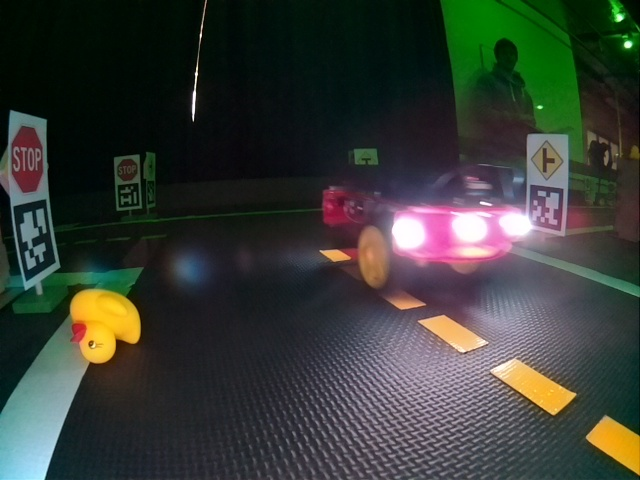Duckie: (70, 289, 138, 361)
Duckiebot: (323, 178, 523, 289)
Intersection sign: (530, 137, 565, 182), (357, 151, 375, 165), (146, 155, 156, 178)
QR code: (12, 199, 59, 280), (527, 183, 565, 232), (116, 182, 139, 207), (146, 181, 156, 208)
Stop sign: (11, 124, 46, 195), (115, 157, 136, 180)
